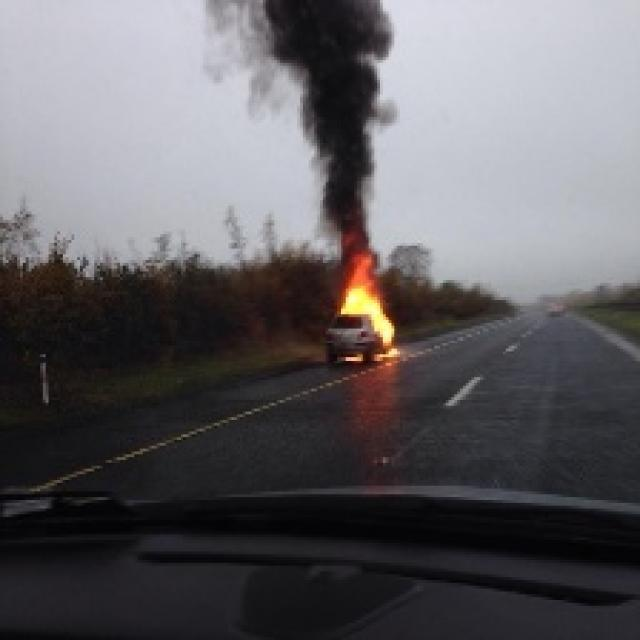Fire: (336, 260, 393, 342)
Smoke: (258, 0, 392, 252)
